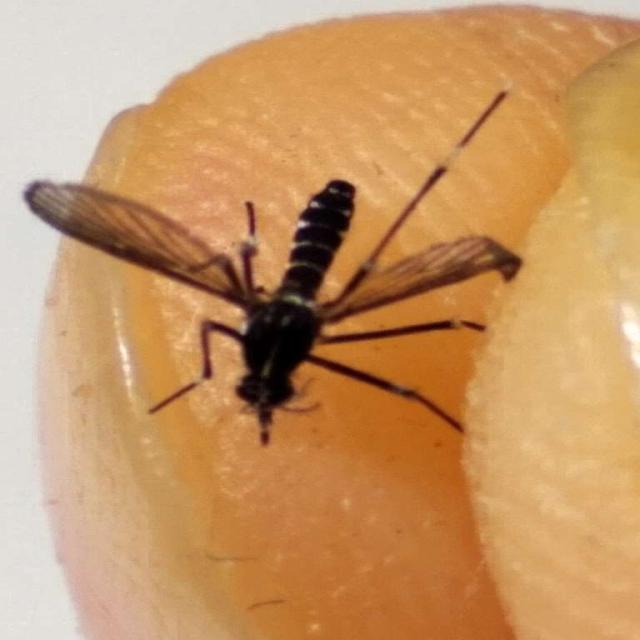albopictus: (38, 120, 527, 456)
